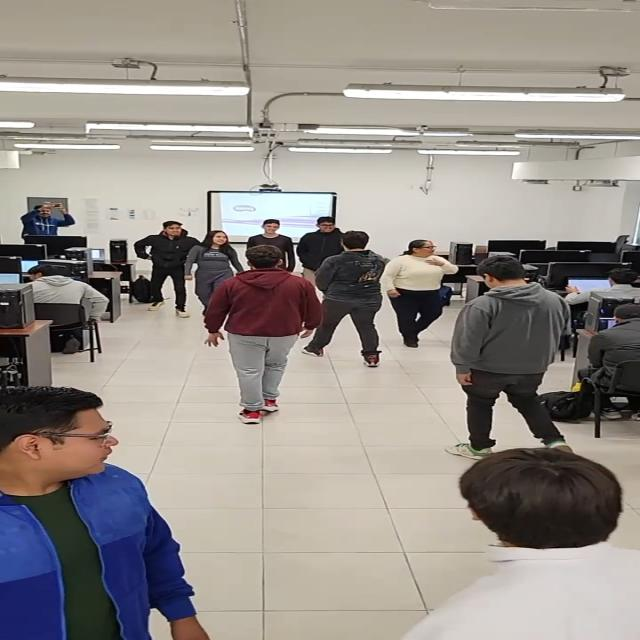Persona: (0, 386, 212, 640), (395, 447, 640, 639), (451, 256, 582, 456), (202, 245, 327, 425), (303, 230, 387, 368), (378, 237, 456, 348), (136, 220, 205, 320), (184, 230, 252, 316), (297, 214, 351, 274), (244, 217, 298, 272)
